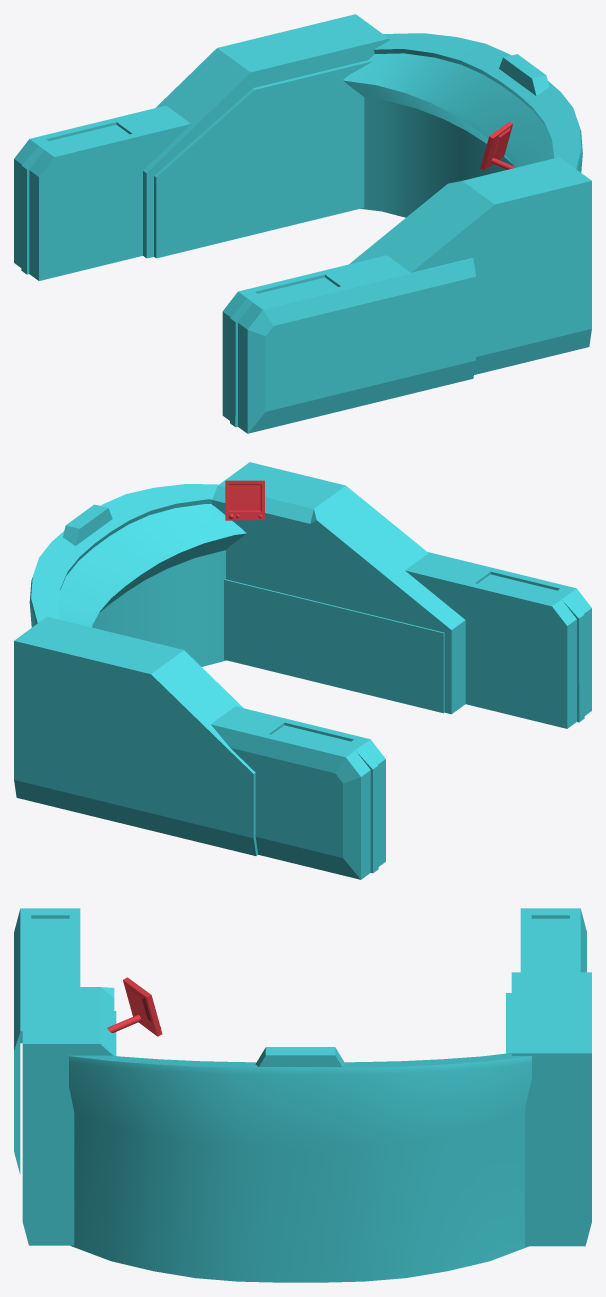
The model's file is Zona de Comandos.fbx.
3 renders of one model, top to bottom at view 1: azimuth 30°, elevation 25°; view 2: azimuth 150°, elevation 25°; view 3: azimuth 270°, elevation 25°, orthographic. The views are drawn at different scales.
Visible parts, largest first — view 1: Sala de Mandos; view 2: Sala de Mandos; view 3: Sala de Mandos.
Boxes of the visible parts, x1,y1,x2,y2 form: Sala de Mandos: [14, 14, 591, 433]; Sala de Mandos: [14, 462, 591, 879]; Sala de Mandos: [14, 908, 591, 1282].
Bounding box in the file's own units: 246 × 113 × 251.
